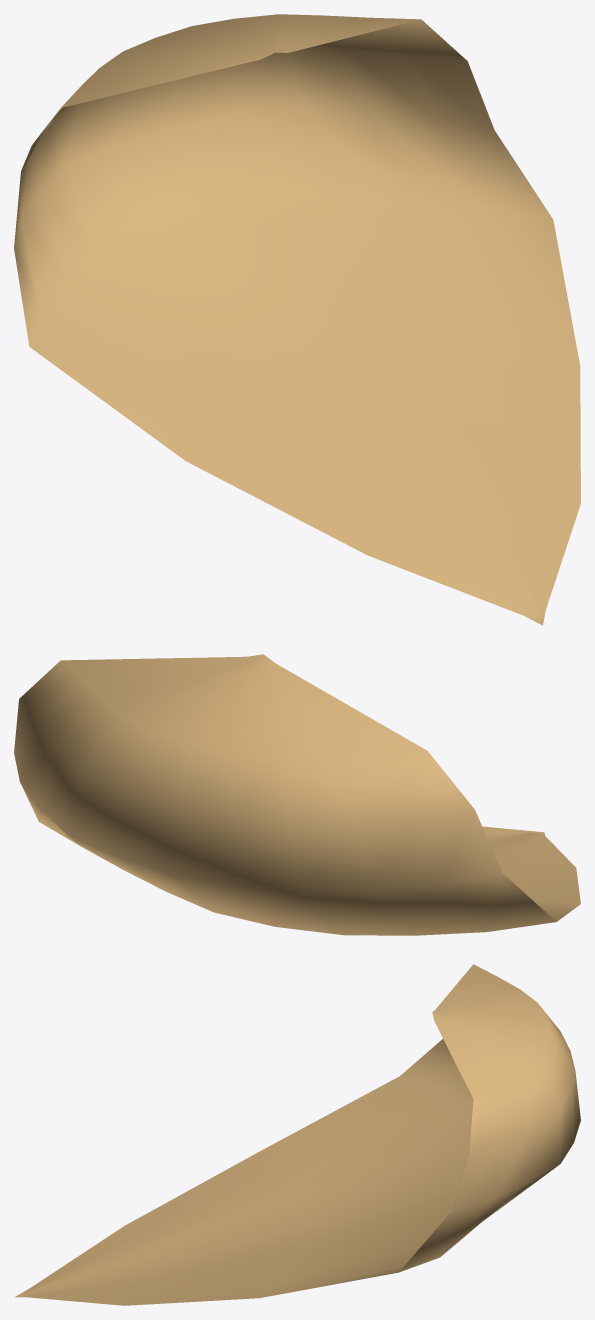
Rendered from abdomen_5_lower.obj.
3 renders of one model, top to bottom at view 1: azimuth 30°, elevation 25°; view 2: azimuth 150°, elevation 25°; view 3: azimuth 270°, elevation 25°, orthographic. The views are drawn at different scales.
Size of the model in its own units: 0.0626 by 0.0427 by 0.0764.
